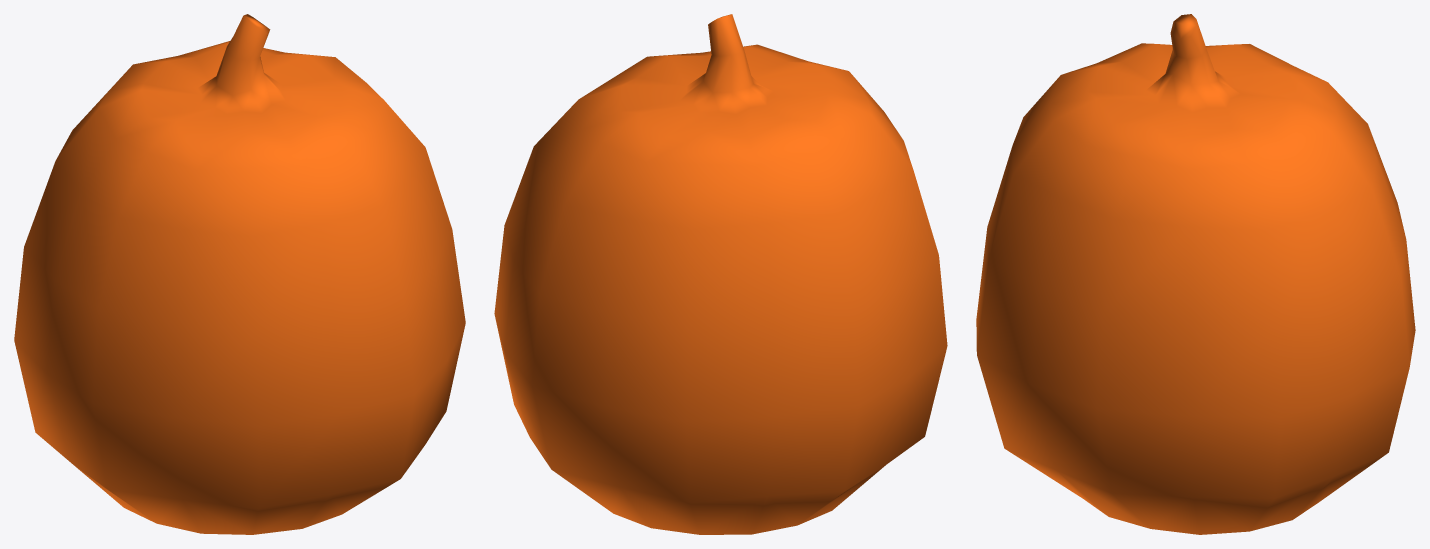
The model's file is Pumpkin Tall Organic LP (No Carving).obj.
The picture shows the model from 3 angles, left to right: view 1: azimuth 30°, elevation 25°; view 2: azimuth 150°, elevation 25°; view 3: azimuth 270°, elevation 25°; orthographic projection.
Parts seen in each view (by area): view 1: Main_Pumpkin_Tall_Organic_LP; view 2: Main_Pumpkin_Tall_Organic_LP; view 3: Main_Pumpkin_Tall_Organic_LP.
Boxes of the visible parts, left/top/right/bottom form: Main_Pumpkin_Tall_Organic_LP: left=14, top=14, right=465, bottom=534; Main_Pumpkin_Tall_Organic_LP: left=494, top=14, right=947, bottom=534; Main_Pumpkin_Tall_Organic_LP: left=976, top=14, right=1415, bottom=534.
Size of the model in its own units: 1.2 by 1.42 by 1.22.
Materials: 1 (1 with a texture image).
